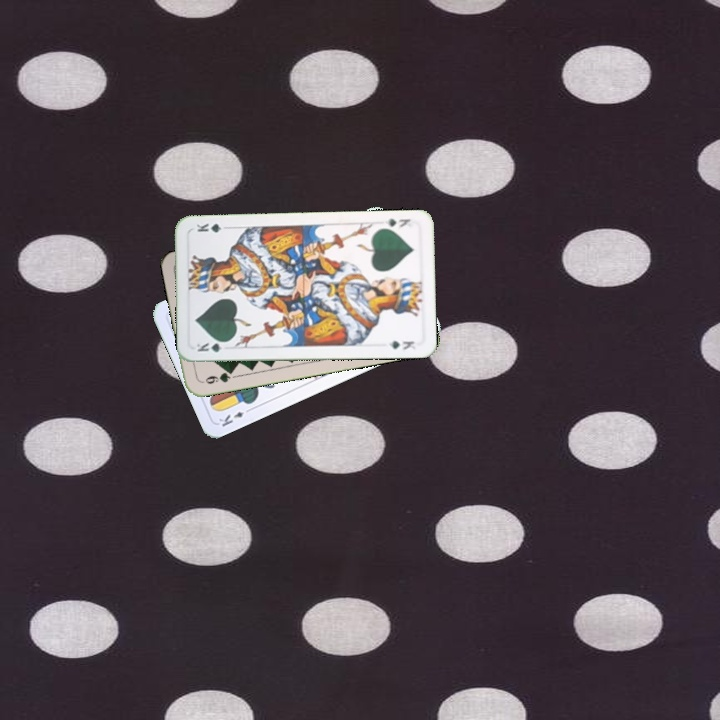EK: (215, 404, 254, 429)
G9: (201, 366, 237, 386)
GK: (193, 338, 232, 355), (381, 215, 413, 230)
